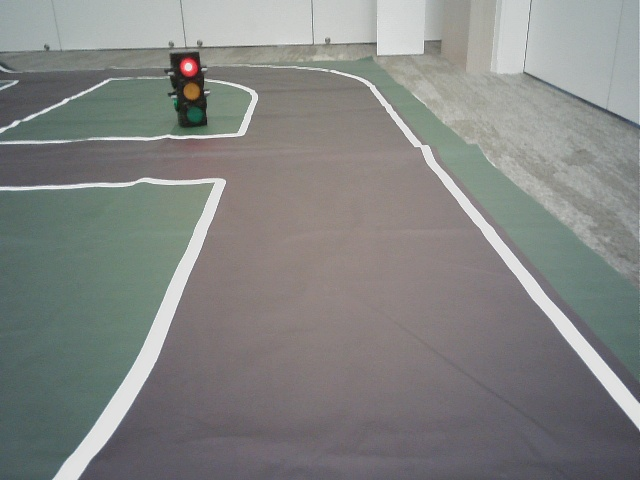red: (177, 55, 205, 124)
